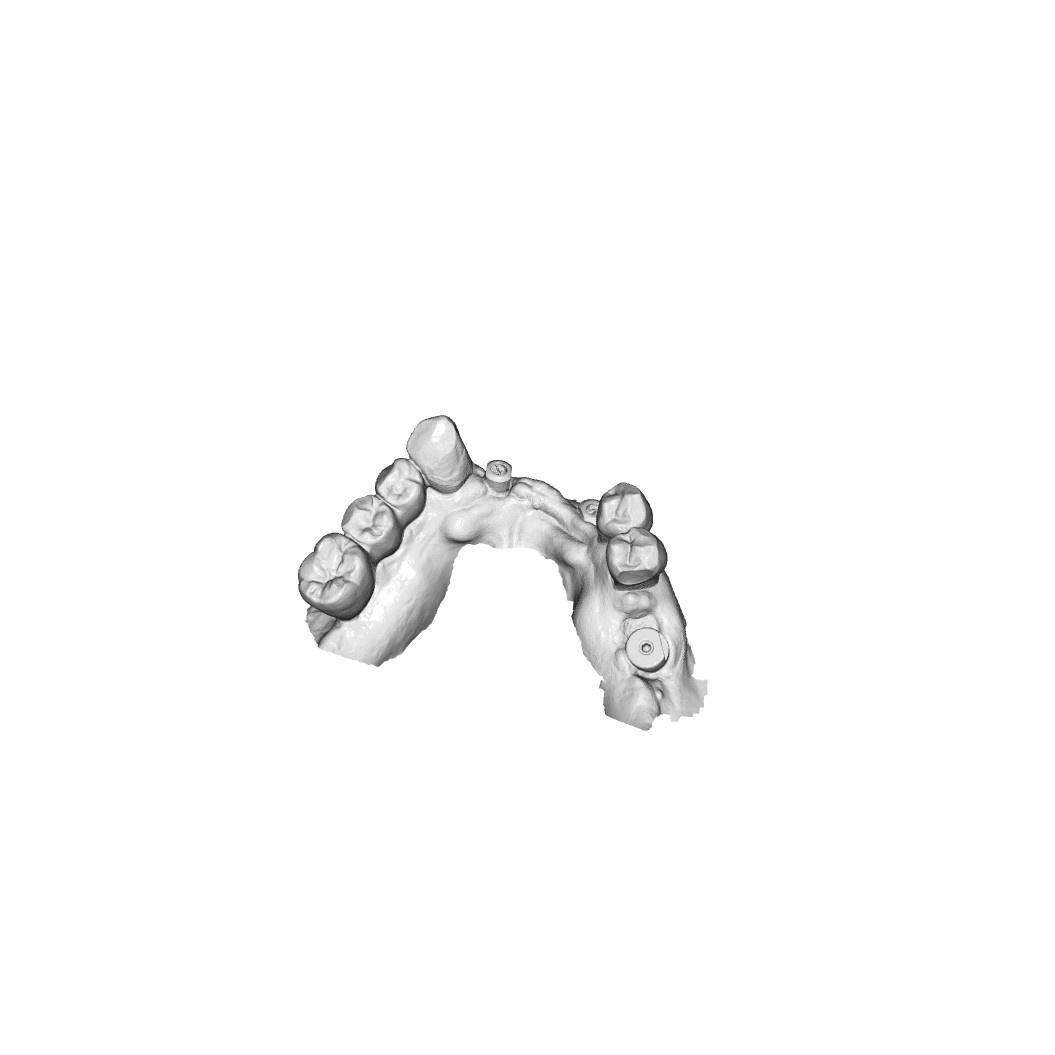canine: (407, 412, 470, 483)
implant: (623, 627, 676, 677), (481, 455, 514, 490), (575, 494, 603, 526)
molar: (294, 530, 374, 619)
premolar: (604, 525, 673, 586), (340, 493, 399, 556), (594, 479, 658, 537), (375, 454, 429, 517)
